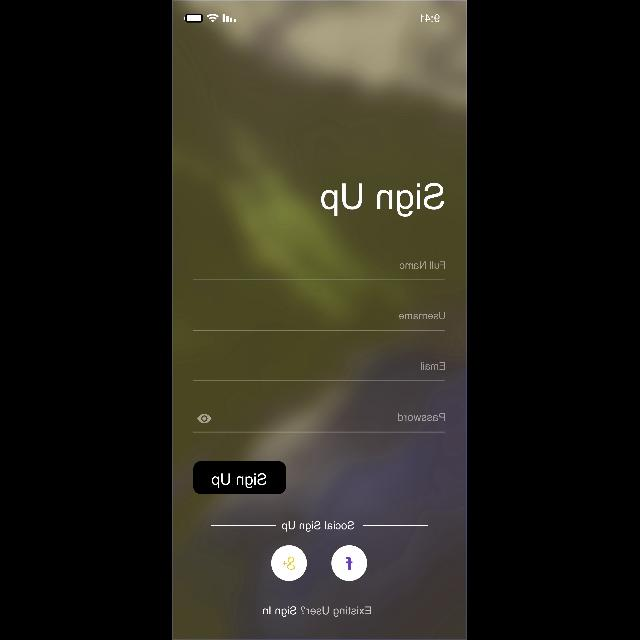icon: (272, 545, 308, 581), (332, 545, 368, 581), (198, 414, 212, 424)
input: (194, 261, 446, 281), (194, 362, 446, 382), (194, 413, 446, 433), (194, 312, 446, 331)
text: (322, 183, 444, 217), (264, 606, 372, 618), (283, 520, 355, 532), (398, 413, 446, 421), (400, 312, 446, 320), (400, 261, 446, 269), (422, 362, 446, 370)
textbutton: (194, 462, 286, 494)
uppertaskbar: (184, 14, 440, 22)
